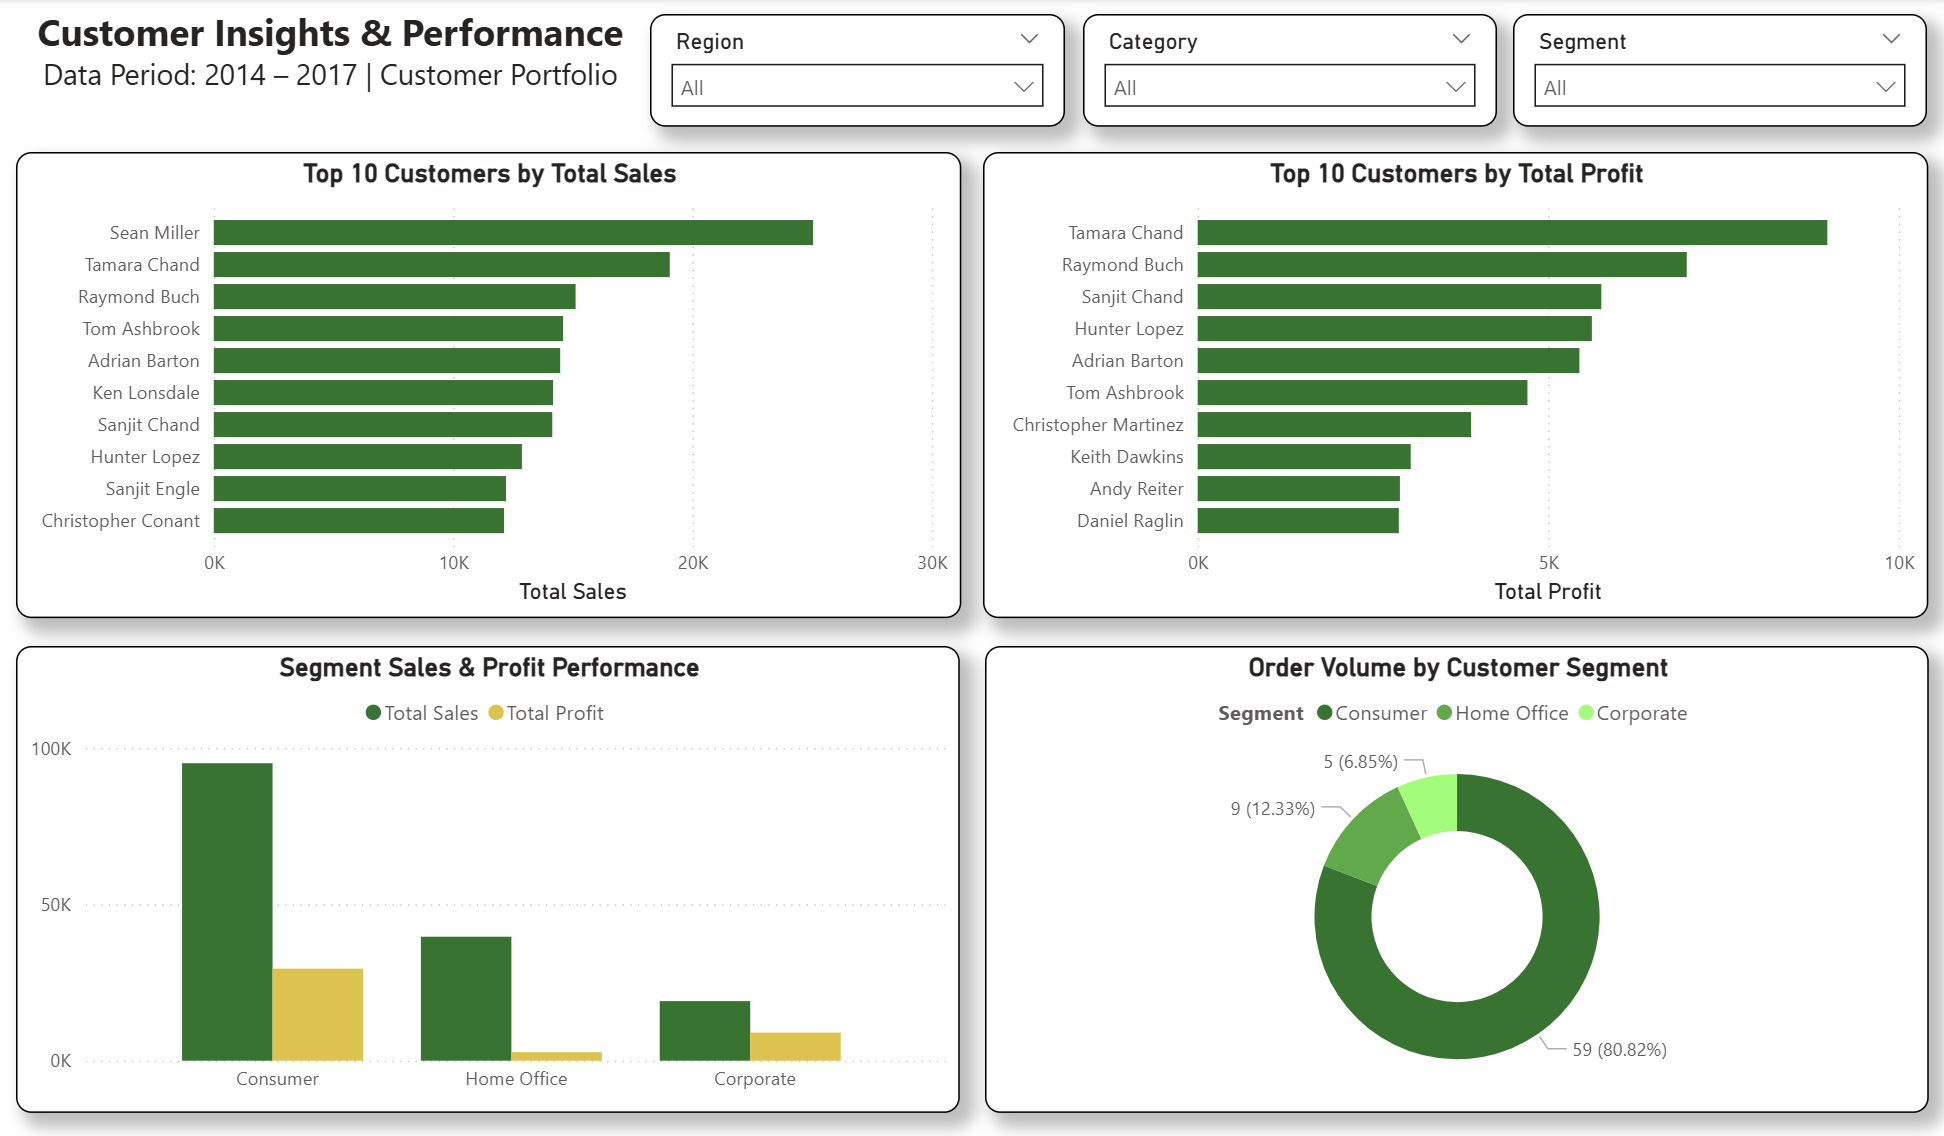

This screenshot's page, from the dashboard's own definition file:
{"tool":"powerbi","page":{"name":"Customer Analysis","canvas":[1280,750],"ordinal":2},"visuals":[{"type":"textbox","box":[10,0,410,81.7],"z":0},{"type":"slicer","title":"What is the total Sales by region?","fields":{"Values":["superstore_cleaned.Region"]},"box":[423.3,10,270,73.3],"z":1000},{"type":"slicer","title":"What is the total Sales by region?","fields":{"Values":["superstore_cleaned.Category"]},"box":[705,10,270,73.3],"z":2000},{"type":"slicer","title":"What is the total Sales by region?","fields":{"Values":["superstore_cleaned.Segment"]},"box":[986.7,10,270,73.3],"z":3000},{"type":"barChart","title":"Top 10 Customers by Total Sales","fields":{"Y":["Sum(superstore_cleaned.Sales)"],"Category":["superstore_cleaned.Customer Name"]},"box":[10,100,616.2,303.8],"z":4000},{"type":"barChart","title":"Top 10 Customers by Total Profit ","fields":{"Y":["Sum(superstore_cleaned.Profit)"],"Category":["superstore_cleaned.Customer Name"]},"box":[640,100,616.2,303.8],"z":5000},{"type":"clusteredColumnChart","title":"Segment Sales & Profit Performance","fields":{"Y":["Sum(superstore_cleaned.Sales)","Sum(superstore_cleaned.Profit)"],"Category":["superstore_cleaned.Segment"]},"box":[10,422.9,615.7,304.3],"z":6000},{"type":"donutChart","title":"Order Volume by Customer Segment","fields":{"Category":["superstore_cleaned.Segment"],"Y":["Count(superstore_cleaned.Order ID)"]},"box":[641.4,422.9,615.7,304.3],"z":7000}]}

Visuals, with their boxes in screenshot pixels (x1, y1, x2, y2), scaled from the page's 1280x750 canvas onto the 1944x1136 screenshot:
textbox: rect(15, 0, 638, 124)
"What is the total Sales by region?" slicer: rect(643, 15, 1053, 126)
"What is the total Sales by region?" slicer: rect(1071, 15, 1481, 126)
"What is the total Sales by region?" slicer: rect(1499, 15, 1909, 126)
"Top 10 Customers by Total Sales" barChart: rect(15, 151, 951, 612)
"Top 10 Customers by Total Profit " barChart: rect(972, 151, 1908, 612)
"Segment Sales & Profit Performance" clusteredColumnChart: rect(15, 641, 950, 1101)
"Order Volume by Customer Segment" donutChart: rect(974, 641, 1909, 1101)
